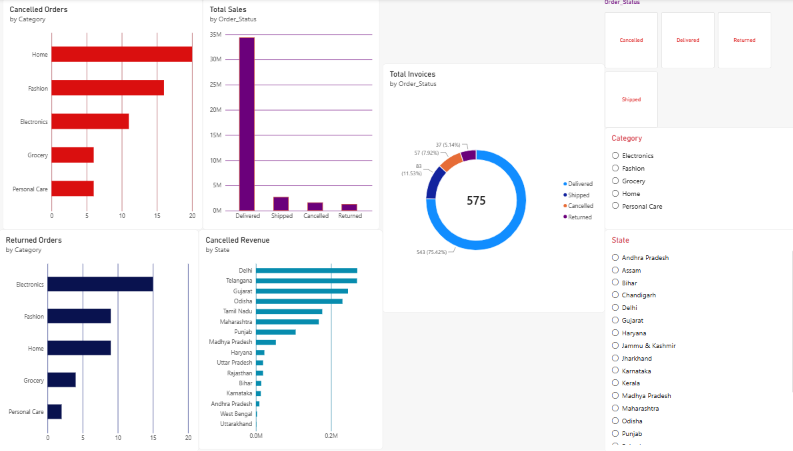

What the dashboard file says about the page in this screenshot:
{"tool":"powerbi","page":{"name":"Returns & Cancellation","canvas":[1920,1080],"ordinal":4},"visuals":[{"type":"donutChart","fields":{"Category":["Invoice_Data.Order_Status"],"Y":["Invoice_Data.Total Invoices"]},"box":[916.2,155.1,529.7,594.1],"z":0},{"type":"barChart","fields":{"Category":["Invoice_Data.Category"],"Y":["Invoice_Data.Cancelled Orders"]},"box":[9.5,0,477.2,551.1],"z":1},{"type":"barChart","fields":{"Category":["Invoice_Data.Category"],"Y":["Invoice_Data.Returned Orders"]},"box":[0,551.1,477.2,529.7],"z":2},{"type":"barChart","fields":{"Category":["Invoice_Data.State"],"Y":["Invoice_Data.Cancelled Revenue"]},"box":[477.2,551.1,439,524.9],"z":3},{"type":"listSlicer","fields":{"Values":["Invoice_Data.State"]},"box":[1445.9,551.1,474.8,529.7],"z":4},{"type":"listSlicer","fields":{"Values":["Invoice_Data.Category"]},"box":[1445.9,307.8,474.8,243.4],"z":5},{"type":"advancedSlicerVisual","fields":{"Values":["Invoice_Data.Order_Status"]},"box":[1446,0,398,308],"z":6},{"type":"clusteredColumnChart","fields":{"Category":["Invoice_Data.Order_Status"],"Y":["Invoice_Data.Total Sales"]},"box":[486.7,0,422.3,551.1],"z":7}]}

Visuals, with their boxes in screenshot pixels (x1, y1, x2, y2), scaled from the page's 1920x1080 canvas onto the 793x451 screenshot:
donutChart - Invoice_Data.Order_Status x Invoice_Data.Total Invoices: [378, 65, 597, 313]
barChart - Invoice_Data.Category x Invoice_Data.Cancelled Orders: [4, 0, 201, 230]
barChart - Invoice_Data.Category x Invoice_Data.Returned Orders: [0, 230, 197, 450]
barChart - Invoice_Data.State x Invoice_Data.Cancelled Revenue: [197, 230, 378, 449]
listSlicer - Invoice_Data.State: [597, 230, 792, 450]
listSlicer - Invoice_Data.Category: [597, 129, 792, 230]
advancedSlicerVisual - Invoice_Data.Order_Status: [597, 0, 762, 129]
clusteredColumnChart - Invoice_Data.Order_Status x Invoice_Data.Total Sales: [201, 0, 375, 230]
